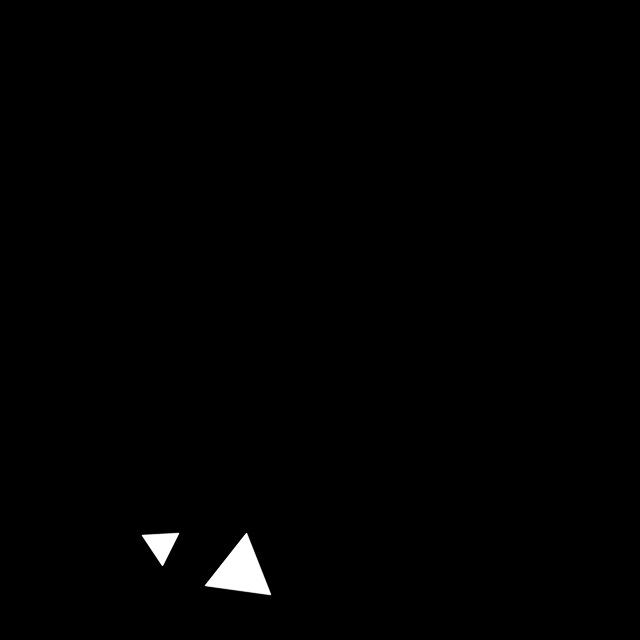Triangle: (199, 526, 284, 600), (136, 524, 188, 579)
